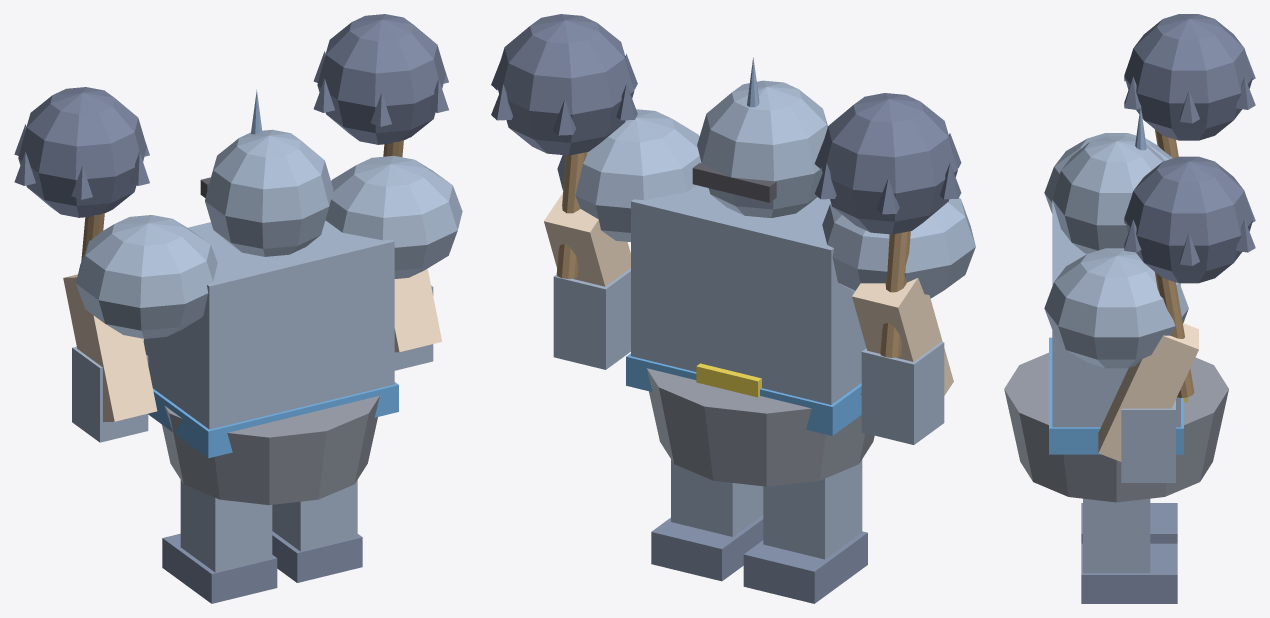
The model's file is mega_knight.glb.
3 renders of one model, left to right at view 1: azimuth 30°, elevation 25°; view 2: azimuth 150°, elevation 25°; view 3: azimuth 270°, elevation 25°, orthographic. The views are drawn at different scales.
Parts seen in each view (by area): view 1: mega_knight; view 2: mega_knight; view 3: mega_knight.
Boxes of the visible parts, x1=… form: mega_knight: x1=14, y1=14, x2=462, y2=603; mega_knight: x1=491, y1=14, x2=975, y2=603; mega_knight: x1=1004, y1=14, x2=1255, y2=603.
Size of the model in its own units: 4.09 by 4.43 by 2.11.
